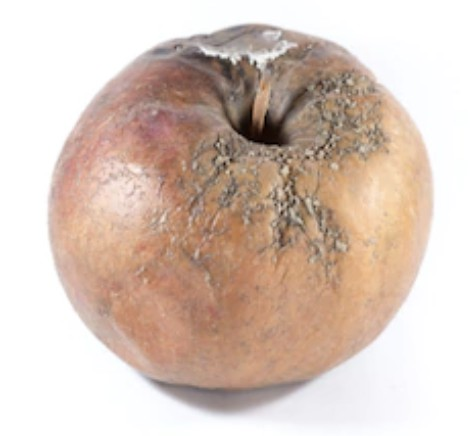rotten_apple: (46, 23, 434, 394)
